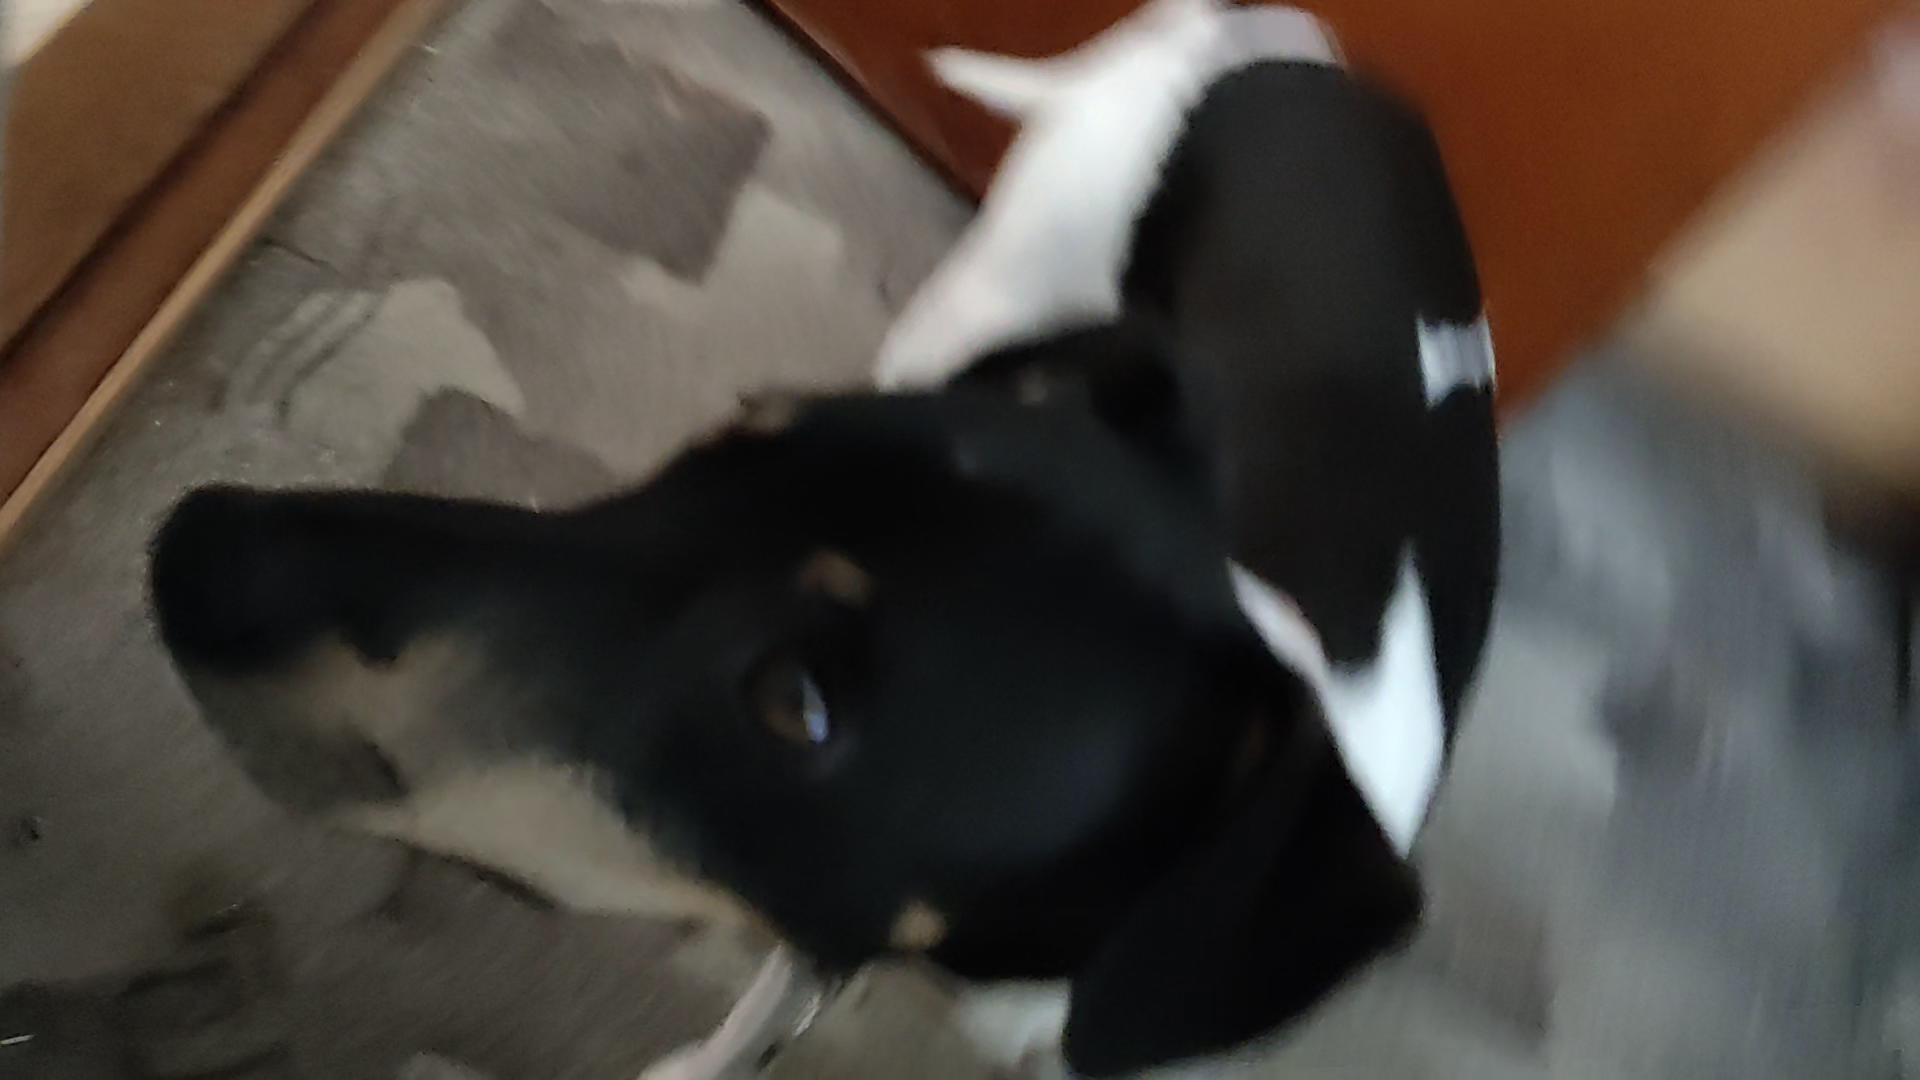Dog: (131, 0, 1534, 1080)
